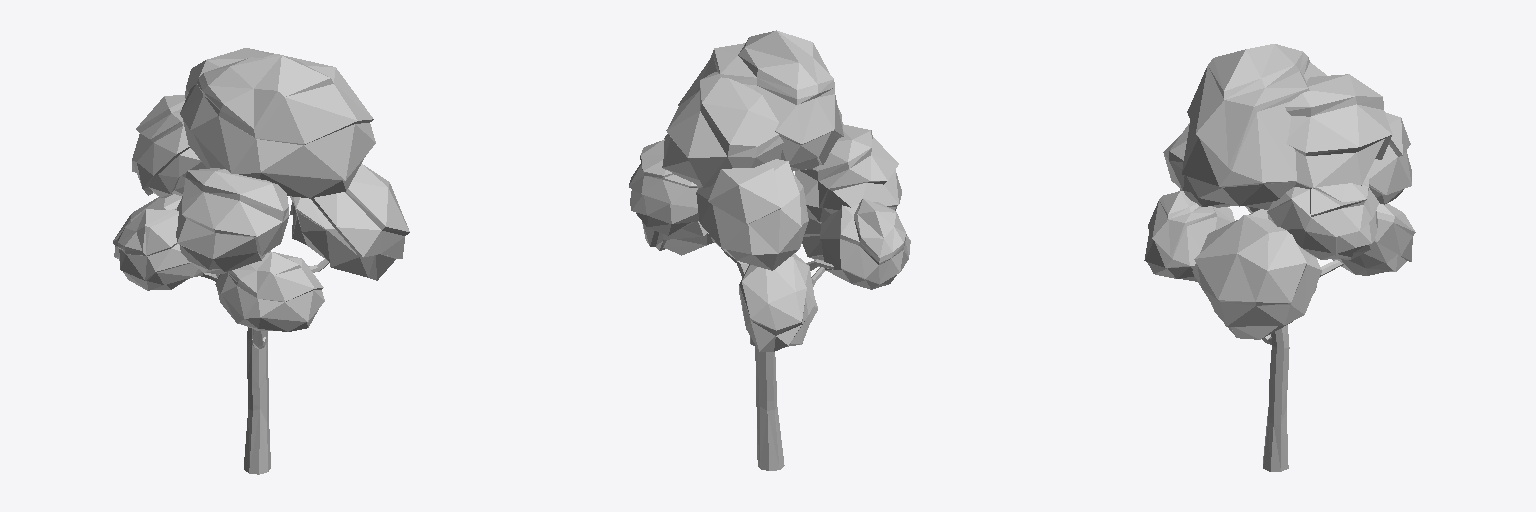
Rendered from Tree1.obj.
The picture shows the model from 3 angles: view 1: azimuth 30°, elevation 25°; view 2: azimuth 150°, elevation 25°; view 3: azimuth 270°, elevation 25°; orthographic projection.
Parts seen in each view (by area): view 1: PP_Birch_Tree_06.001; view 2: PP_Birch_Tree_06.001; view 3: PP_Birch_Tree_06.001.
Boxes of the visible parts, x1,y1,x2,y2 form: PP_Birch_Tree_06.001: [113, 48, 409, 474]; PP_Birch_Tree_06.001: [629, 30, 910, 470]; PP_Birch_Tree_06.001: [1144, 44, 1415, 471].
Size of the model in its own units: 5.89 by 8.86 by 5.16.